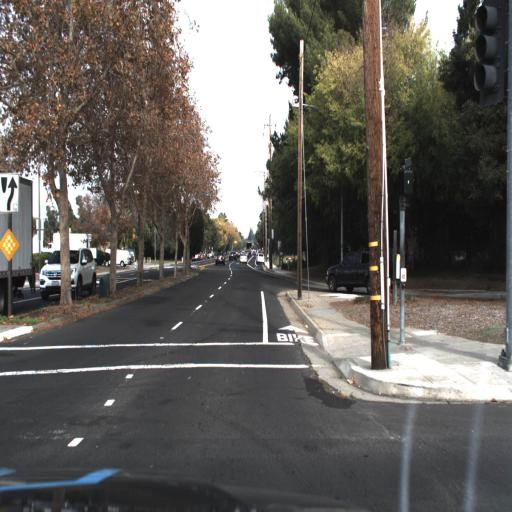car: (39, 242, 95, 299), (326, 248, 373, 292), (113, 243, 133, 267)
truck: (0, 172, 32, 314)
